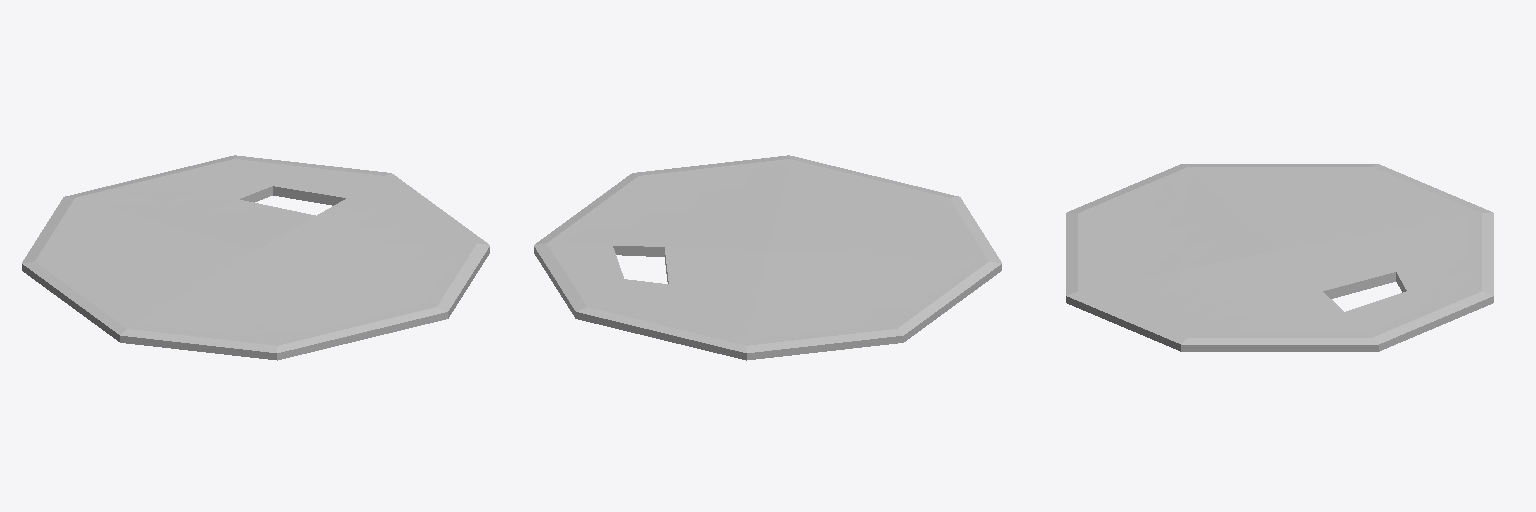
File: floor_3.obj
3 renders of one model, left to right at view 1: azimuth 30°, elevation 25°; view 2: azimuth 150°, elevation 25°; view 3: azimuth 270°, elevation 25°, orthographic.
Parts seen in each view (by area): view 1: floor.003; view 2: floor.003; view 3: floor.003.
Boxes of the visible parts, x1,y1,x2,y2 form: floor.003: [22, 155, 489, 360]; floor.003: [534, 155, 1001, 360]; floor.003: [1066, 164, 1493, 351].
Size of the model in its own units: 32.5 by 0.9254 by 32.5.